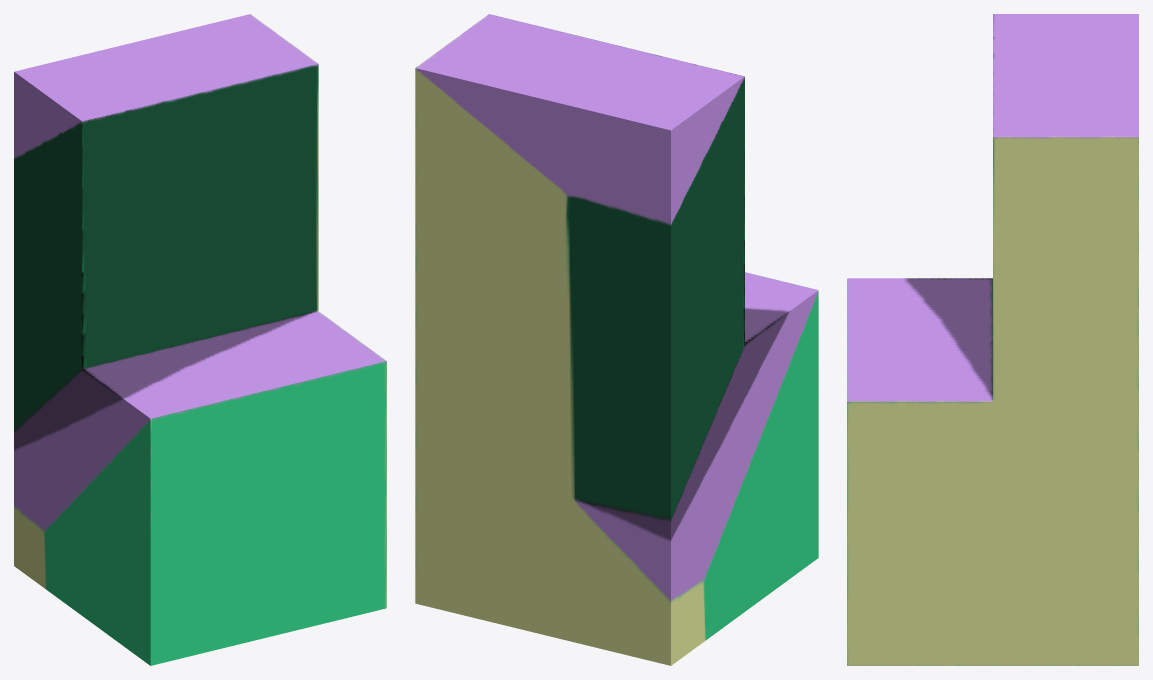
The picture shows the model from 3 angles, left to right: view 1: azimuth 30°, elevation 25°; view 2: azimuth 150°, elevation 25°; view 3: azimuth 270°, elevation 25°; orthographic projection. The views are drawn at different scales.
Parts seen in each view (by area): view 1: Cube; view 2: Cube; view 3: Cube.
Part boxes in pixels (box(x1,y1,x2,y2)): Cube: box(14, 14, 386, 665); Cube: box(415, 14, 818, 665); Cube: box(847, 14, 1138, 665).
Bounding box in the file's own units: 2 × 4 × 2.
1 material, 1 textured.
